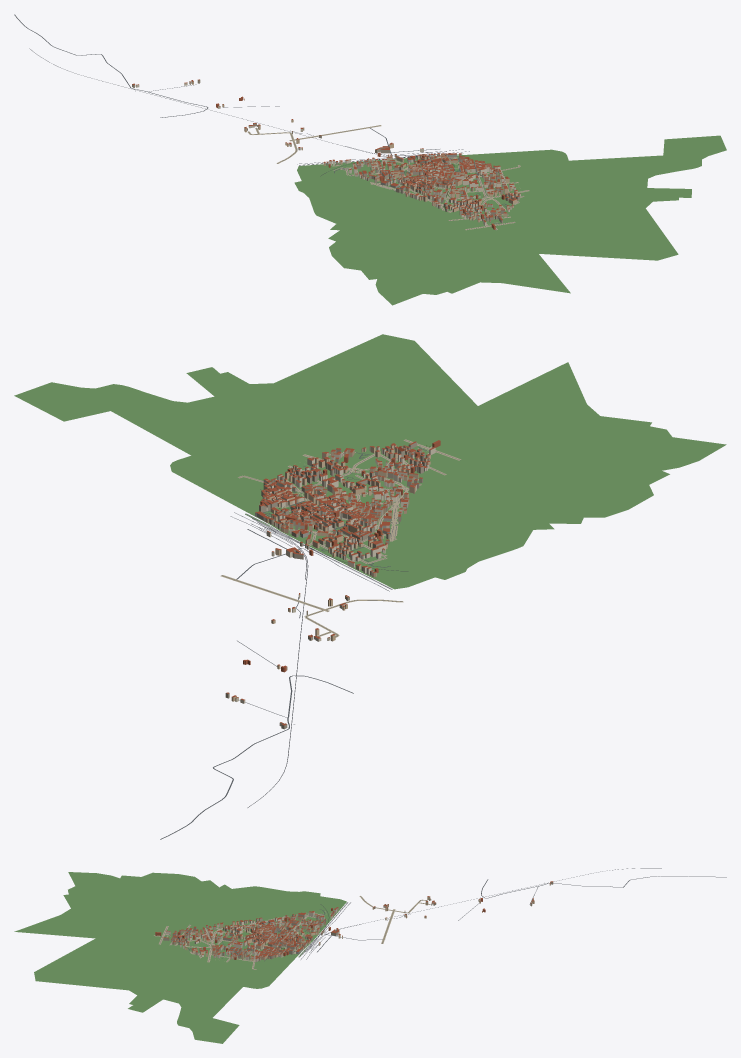
The model's file is centro.glb.
The picture shows the model from 3 angles, top to bottom: view 1: azimuth 30°, elevation 25°; view 2: azimuth 150°, elevation 25°; view 3: azimuth 270°, elevation 25°; orthographic projection. The views are drawn at different scales.
Parts seen in each view (by area): view 1: quartiere-centro; view 2: quartiere-centro; view 3: quartiere-centro.
Part boxes in pixels (x1,y1,x2,y2): quartiere-centro: [14, 14, 726, 305]; quartiere-centro: [14, 334, 726, 839]; quartiere-centro: [14, 868, 726, 1043].
Bounding box in the file's own units: 2960 × 35.9 × 5069.
